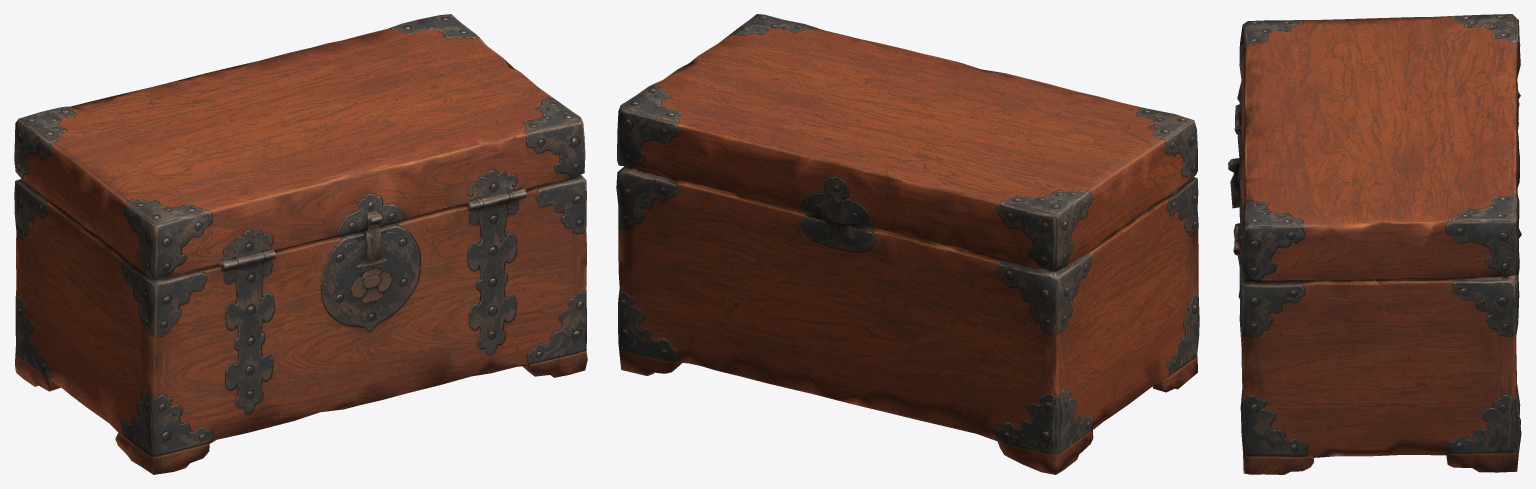
File: PR_Bandaji.fbx
3 views of the same model, side by side, from view 1: azimuth 30°, elevation 25°; view 2: azimuth 150°, elevation 25°; view 3: azimuth 270°, elevation 25° (orthographic). The views are drawn at different scales.
Visible parts, largest first — view 1: texture_mapping; view 2: texture_mapping; view 3: texture_mapping.
Boxes of the visible parts, x1,y1,x2,y2 form: texture_mapping: (14,14,587,474); texture_mapping: (616,14,1199,474); texture_mapping: (1228,14,1521,474).
Bounding box in the file's own units: 0.999 × 0.5878 × 0.5645.
Materials: 1 (1 with a texture image).
